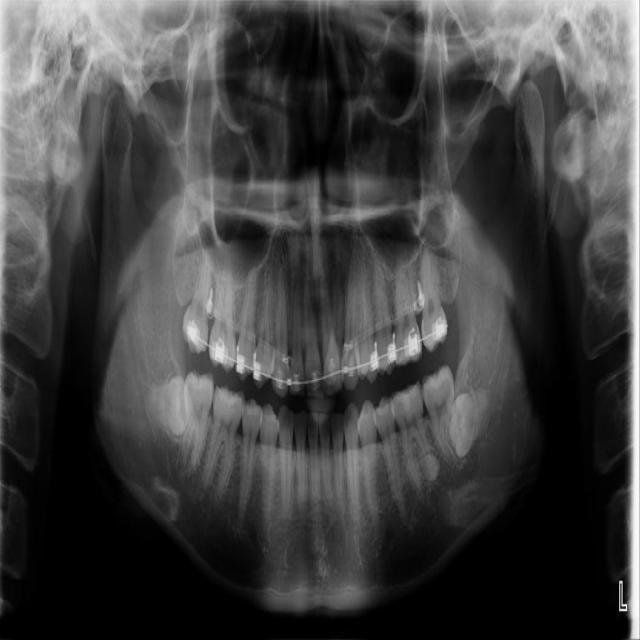52: (322, 340, 344, 395)
73: (546, 570, 550, 576)
BioHorizons Implant: (422, 247, 448, 352)
Biomet 3i Implant: (433, 380, 496, 462)
Blue Sky Bio Implant: (421, 363, 457, 464)
Caries: (181, 249, 212, 354)
Implant: (176, 370, 215, 480)
Keystone Dental Implant: (146, 375, 190, 436)
